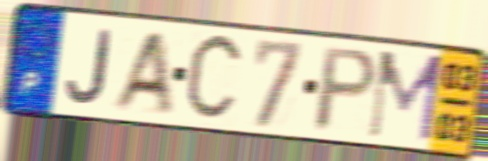7: (251, 35, 306, 132)
A: (107, 29, 175, 114)
C: (182, 29, 247, 127)
J: (64, 26, 115, 107)
M: (364, 48, 446, 145)
P: (309, 44, 382, 135)
